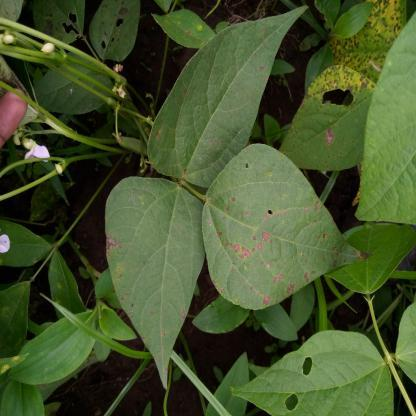Beans_Angular_LeafSpot: (206, 150, 354, 319), (152, 4, 284, 181), (103, 191, 199, 371), (233, 331, 390, 416), (280, 64, 376, 170), (336, 0, 416, 74)
